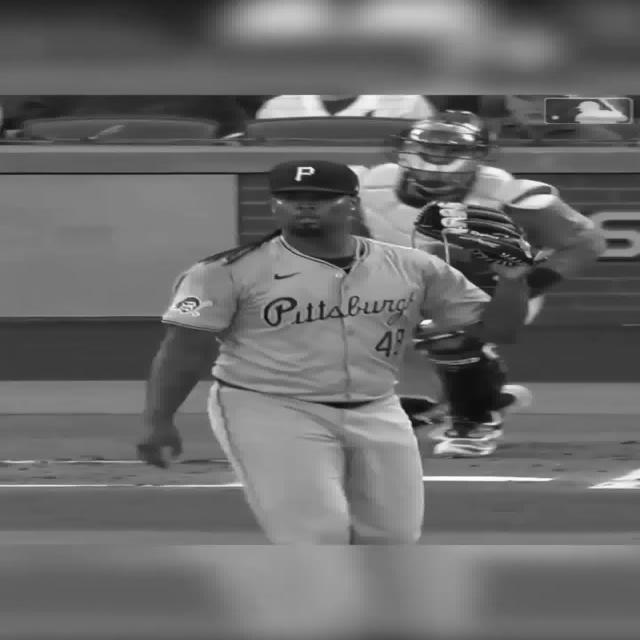baseball_glove: (413, 200, 552, 262)
